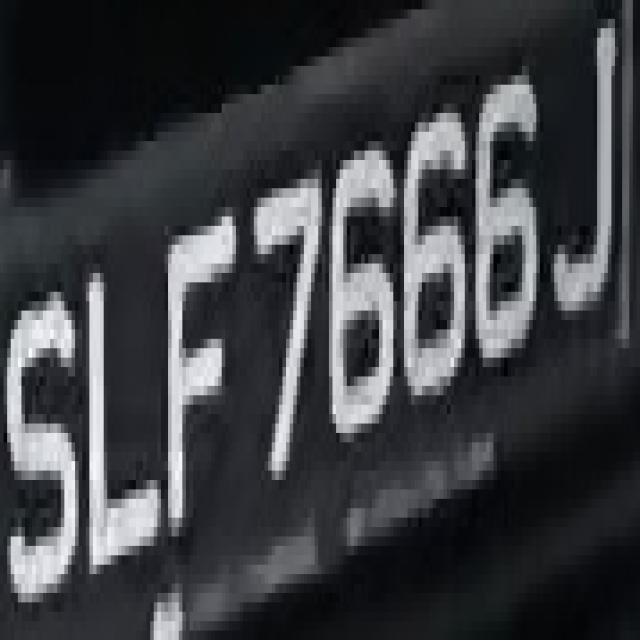6: (461, 85, 558, 395), (322, 132, 404, 461), (397, 84, 468, 423)
7: (250, 151, 322, 498)
F: (150, 207, 243, 584)
J: (550, 19, 626, 348)
L: (78, 245, 172, 564)
S: (3, 235, 78, 602)
